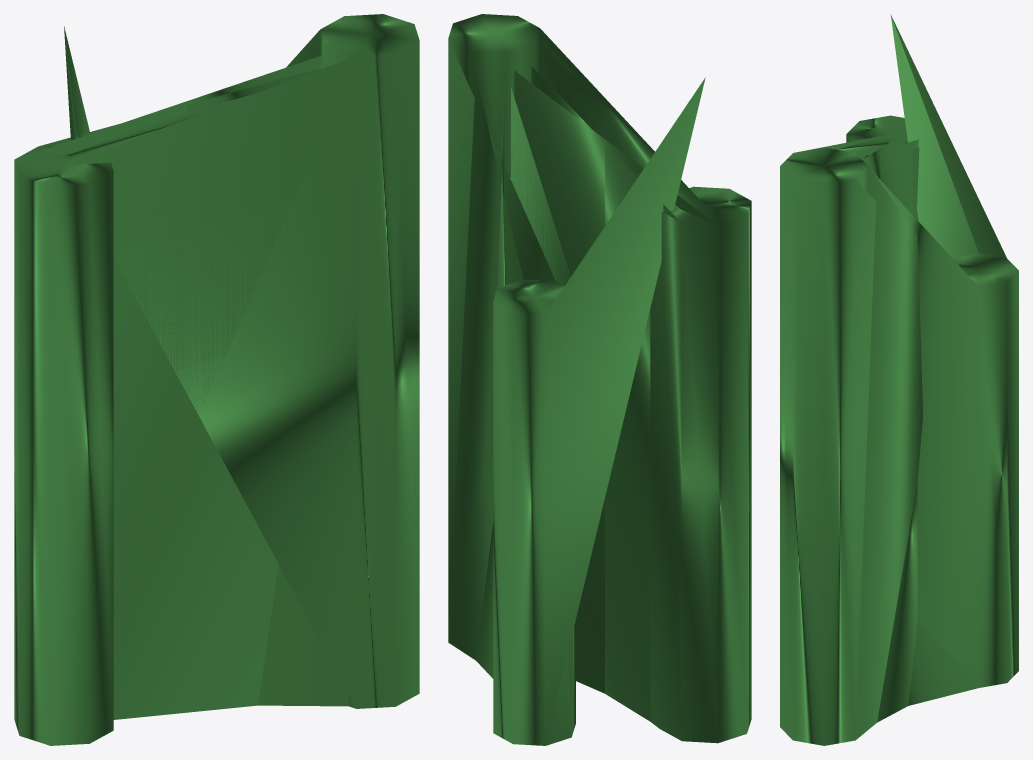
File: herb.obj
3 views of the same model, side by side, from view 1: azimuth 30°, elevation 25°; view 2: azimuth 150°, elevation 25°; view 3: azimuth 270°, elevation 25° (orthographic). The views are drawn at different scales.
Bounding box in the file's own units: 1.28 × 2.4 × 0.864.
